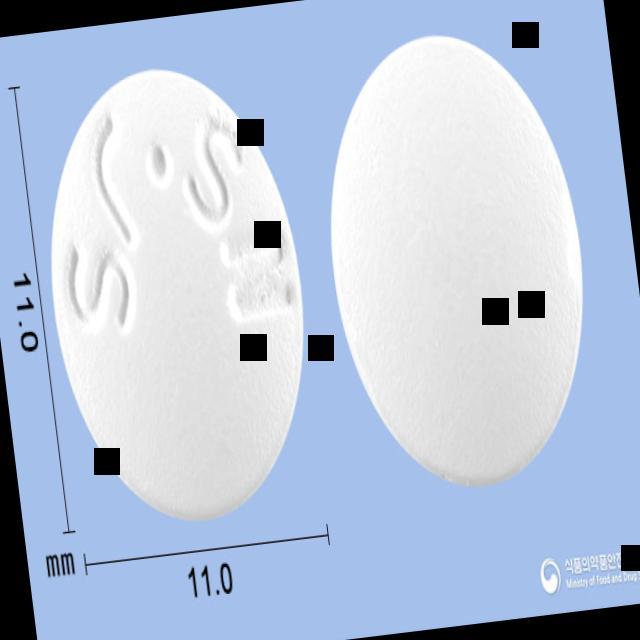Aris: (304, 18, 606, 502), (25, 52, 328, 534)
